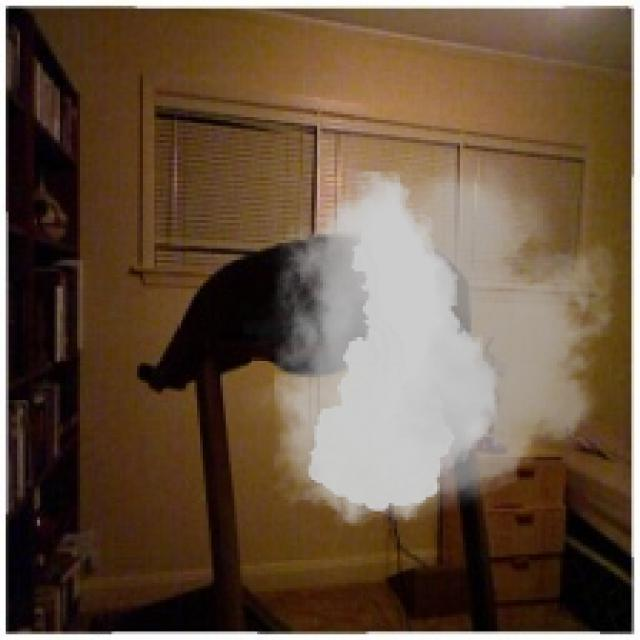smoke: (243, 146, 637, 537)
